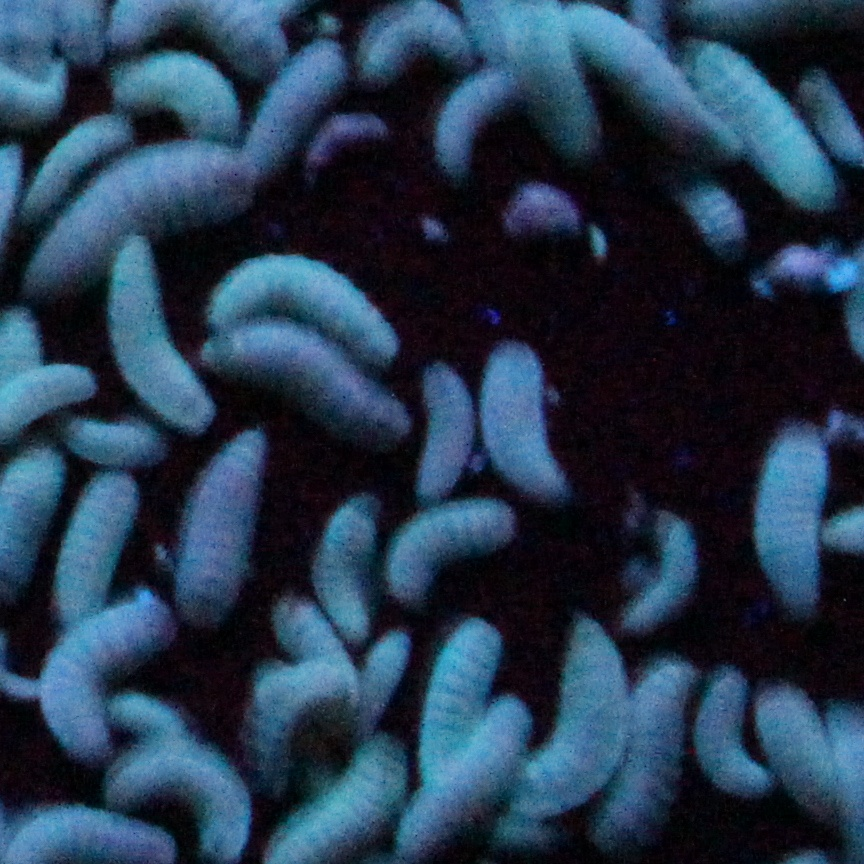larve: (665, 23, 854, 216), (36, 146, 264, 290), (39, 584, 184, 765), (514, 613, 631, 835), (210, 244, 413, 366), (106, 233, 220, 430), (472, 325, 588, 510), (168, 426, 271, 616), (748, 414, 839, 618), (423, 611, 508, 793), (50, 467, 144, 621), (388, 497, 522, 604), (691, 656, 779, 813), (308, 480, 384, 655), (406, 356, 488, 503), (417, 59, 512, 183), (98, 55, 232, 141), (622, 507, 701, 627)
